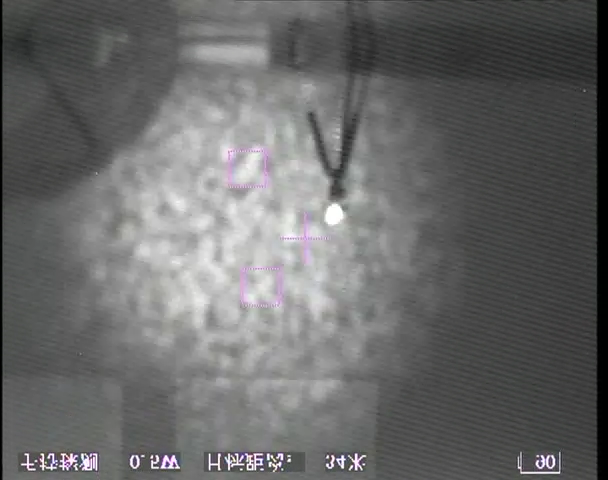my: (323, 202, 345, 227)
